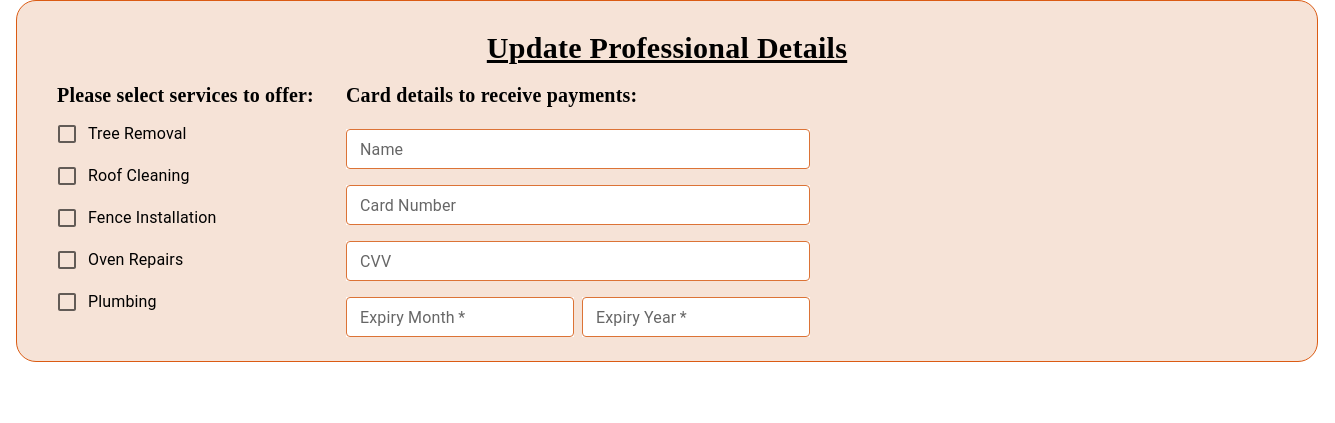
Test case: <EditProfileProfessionalDetails> › should display an error if the expiry of the card is not valid
This screenshot has width=1335, height=423.
In the field labelled "Expiry Month *": {"x": 460, "y": 317} x1=346 y1=297 x2=574 y2=337, type "02"
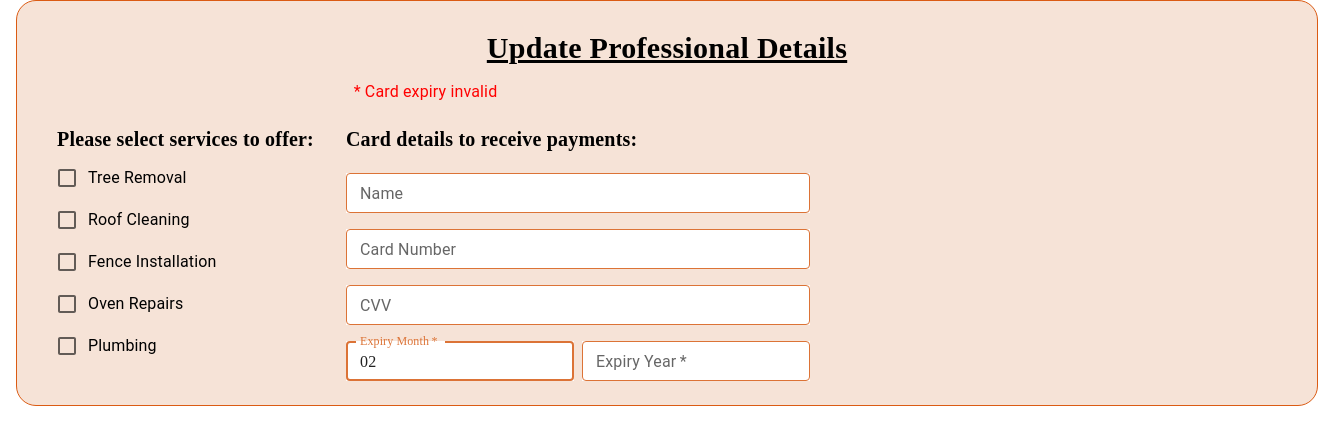
In the field labelled "Expiry Year *": {"x": 696, "y": 361} x1=582 y1=341 x2=810 y2=381, type "1999"
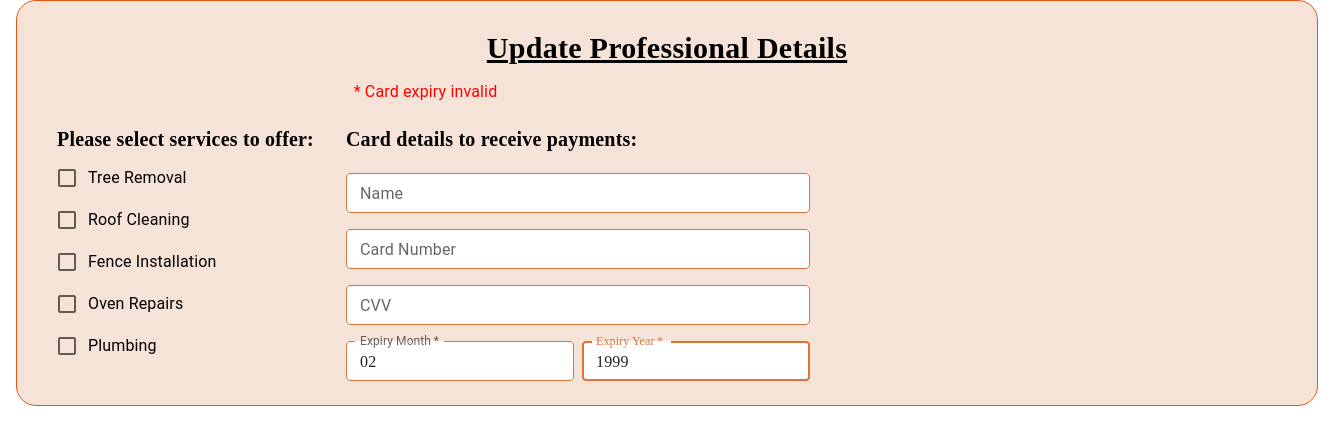
Expected: the heading "* Card expiry invalid" is shown, x1=354 y1=82 x2=497 y2=101
# Should disappear if the expiry is now valid
Clear the field labelled "Expiry Month *": {"x": 460, "y": 361} x1=346 y1=341 x2=574 y2=381
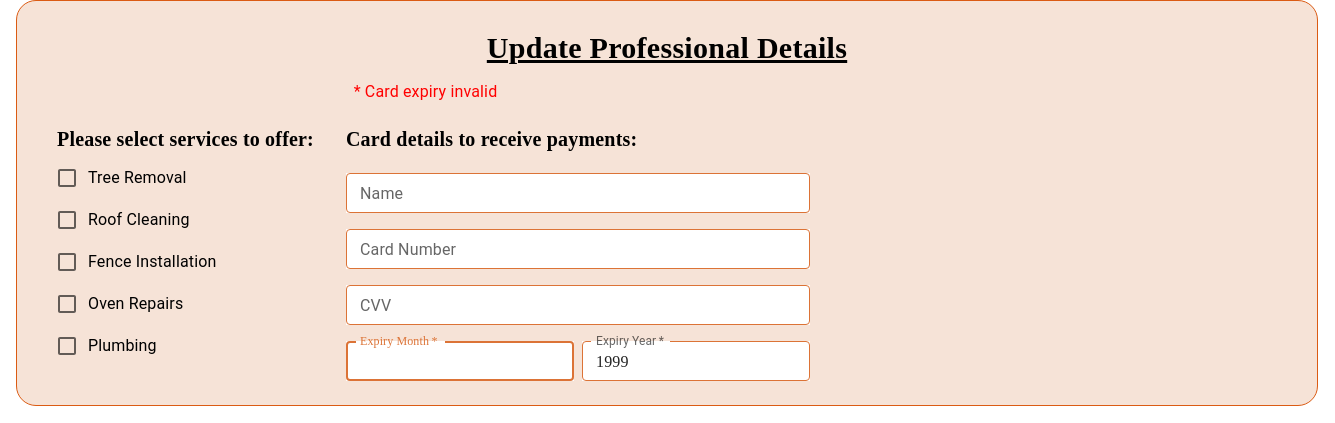
Clear the field labelled "Expiry Year *": {"x": 696, "y": 361} x1=582 y1=341 x2=810 y2=381
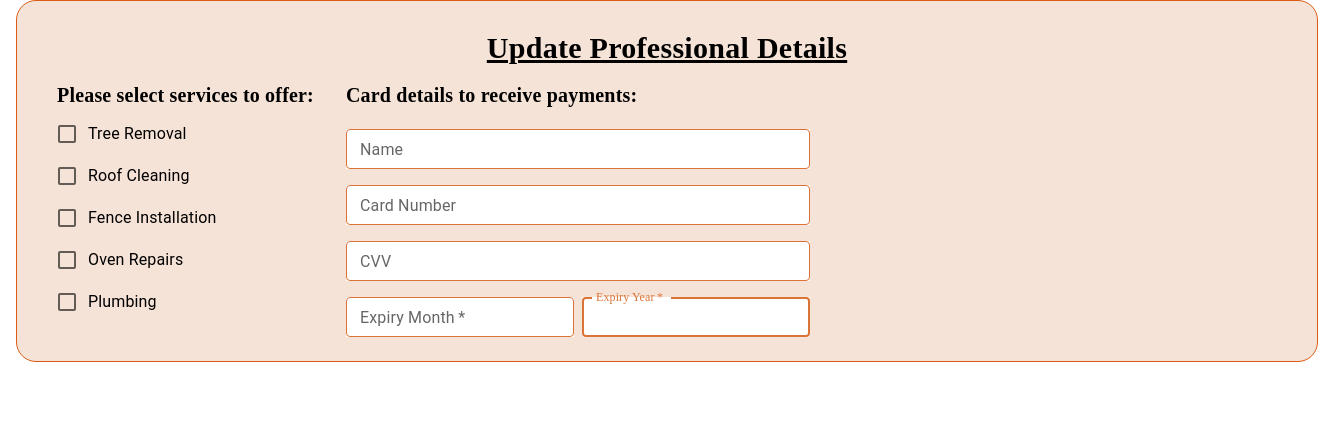
In the field labelled "Expiry Month *": {"x": 460, "y": 317} x1=346 y1=297 x2=574 y2=337, type "02"
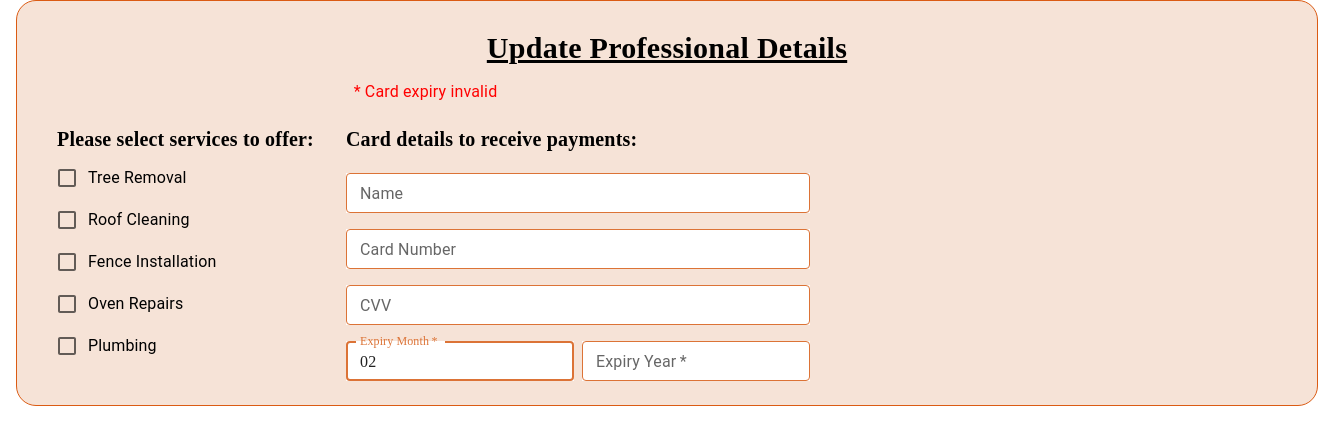
In the field labelled "Expiry Year *": {"x": 696, "y": 361} x1=582 y1=341 x2=810 y2=381, type "2030"
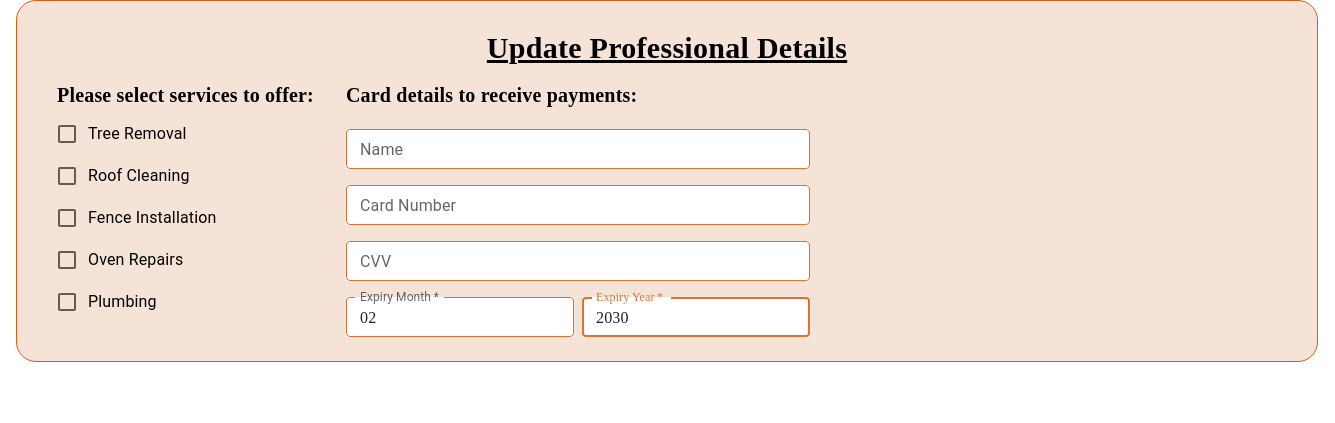
Expected: the heading "* Card expiry invalid" is gone
